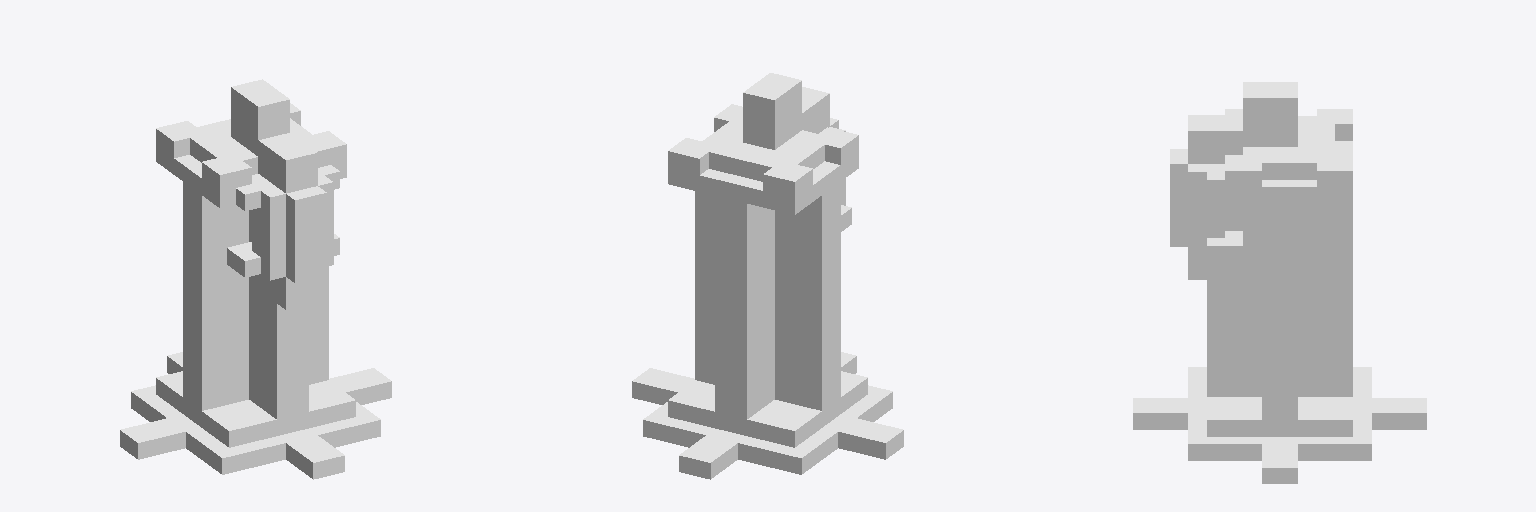
Rendered from Fire_Tall_Base.obj.
3 renders of one model, left to right at view 1: azimuth 30°, elevation 25°; view 2: azimuth 150°, elevation 25°; view 3: azimuth 270°, elevation 25°, orthographic.
Visible parts, largest first — view 1: Fire_Tall_Base; view 2: Fire_Tall_Base; view 3: Fire_Tall_Base.
Part boxes in pixels (bbox=[...]): Fire_Tall_Base: bbox=[120, 79, 391, 479]; Fire_Tall_Base: bbox=[632, 73, 903, 479]; Fire_Tall_Base: bbox=[1133, 82, 1426, 483].
Bounding box in the file's own units: 16 × 20 × 16.